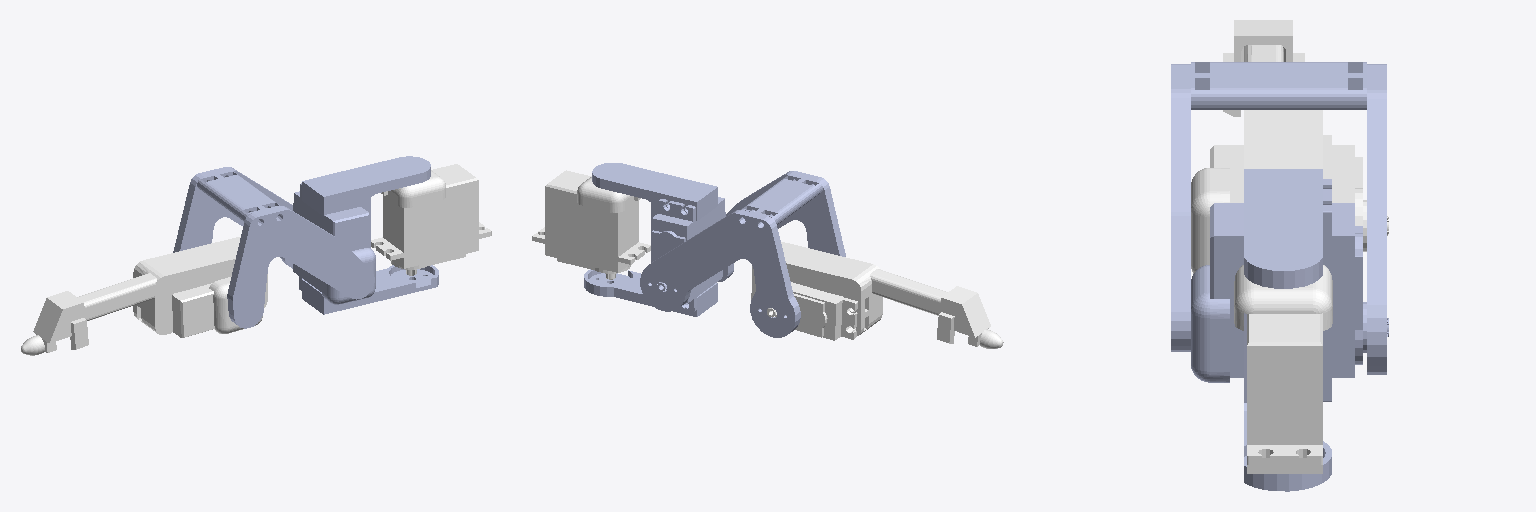
URDF robot description (Hexapod_Sim):
<?xml version="1.0" encoding="utf-8"?>
<!-- This URDF was automatically created by SolidWorks to URDF Exporter! Originally created by [author] ([email redacted]) 
     Commit Version: 1.6.0-4-g7f85cfe  Build Version: 1.6.7995.38578
     For more information, please see http://wiki.ros.org/sw_urdf_exporter -->
<robot
  name="Hexapod_Sim">
  <link
    name="base_link">
    <inertial>
      <origin
        xyz="0.00931125484451498 0.000284453934088408 0.0313981729948706"
        rpy="0 0 0" />
      <mass
        value="0.0507739390277625" />
      <inertia
        ixx="7.77002218705502E-06"
        ixy="-2.00048031390656E-21"
        ixz="-1.84032245097359E-07"
        iyy="1.29174138021076E-05"
        iyz="-7.2617021787437E-21"
        izz="8.47814575855253E-06" />
    </inertial>
    <visual>
      <origin
        xyz="0 0 0"
        rpy="0 0 0" />
      <geometry>
        <mesh
          filename="package://Hexapod_Sim/meshes/base_link.STL" />
      </geometry>
      <material
        name="">
        <color
          rgba="1 1 1 1" />
      </material>
    </visual>
    <collision>
      <origin
        xyz="0 0 0"
        rpy="0 0 0" />
      <geometry>
        <mesh
          filename="package://Hexapod_Sim/meshes/base_link.STL" />
      </geometry>
    </collision>
  </link>
  <link
    name="coxa">
    <inertial>
      <origin
        xyz="-0.038885 -3.6701E-05 0.030217"
        rpy="0 0 0" />
      <mass
        value="0.070996" />
      <inertia
        ixx="2.5181E-05"
        ixy="-5.5281E-08"
        ixz="-5.7851E-07"
        iyy="2.4895E-05"
        iyz="2.1926E-07"
        izz="1.3275E-05" />
    </inertial>
    <visual>
      <origin
        xyz="0 0 0"
        rpy="0 0 0" />
      <geometry>
        <mesh
          filename="package://Hexapod_Sim/meshes/coxa.STL" />
      </geometry>
      <material
        name="">
        <color
          rgba="0.79216 0.81961 0.93333 1" />
      </material>
    </visual>
    <collision>
      <origin
        xyz="0 0 0"
        rpy="0 0 0" />
      <geometry>
        <mesh
          filename="package://Hexapod_Sim/meshes/coxa.STL" />
      </geometry>
    </collision>
  </link>
  <joint
    name="coxa_joint"
    type="revolute">
    <origin
      xyz="0 0 0"
      rpy="0 0 0" />
    <parent
      link="base_link" />
    <child
      link="coxa" />
    <axis
      xyz="0 0 -1" />
    <limit
      lower="-1.57"
      upper="1.57"
      effort="0"
      velocity="0" />
  </joint>
  <link
    name="femur">
    <inertial>
      <origin
        xyz="-0.080738 -0.0016916 0.043153"
        rpy="0 0 0" />
      <mass
        value="0.02565" />
      <inertia
        ixx="5.238E-06"
        ixy="-3.0886E-08"
        ixz="1.7758E-06"
        iyy="1.5098E-05"
        iyz="1.1122E-07"
        izz="1.1043E-05" />
    </inertial>
    <visual>
      <origin
        xyz="0 0 0"
        rpy="0 0 0" />
      <geometry>
        <mesh
          filename="package://Hexapod_Sim/meshes/femur.STL" />
      </geometry>
      <material
        name="">
        <color
          rgba="0.79216 0.81961 0.93333 1" />
      </material>
    </visual>
    <collision>
      <origin
        xyz="0 0 0"
        rpy="0 0 0" />
      <geometry>
        <mesh
          filename="package://Hexapod_Sim/meshes/femur.STL" />
      </geometry>
    </collision>
  </link>
  <joint
    name="femur_joint"
    type="revolute">
    <origin
      xyz="0 0 0"
      rpy="0 0 0" />
    <parent
      link="coxa" />
    <child
      link="femur" />
    <axis
      xyz="0 1 0" />
    <limit
      lower="-1.57"
      upper="1.57"
      effort="0"
      velocity="0" />
  </joint>
  <link
    name="tibia">
    <inertial>
      <origin
        xyz="-0.1201 -0.00067472 0.023309"
        rpy="0 0 0" />
      <mass
        value="0.077277" />
      <inertia
        ixx="9.9576E-06"
        ixy="-1.0504E-06"
        ixz="3.8415E-08"
        iyy="2.7837E-05"
        iyz="-3.4084E-08"
        izz="3.1757E-05" />
    </inertial>
    <visual>
      <origin
        xyz="0 0 0"
        rpy="0 0 0" />
      <geometry>
        <mesh
          filename="package://Hexapod_Sim/meshes/tibia.STL" />
      </geometry>
      <material
        name="">
        <color
          rgba="1 1 1 1" />
      </material>
    </visual>
    <collision>
      <origin
        xyz="0 0 0"
        rpy="0 0 0" />
      <geometry>
        <mesh
          filename="package://Hexapod_Sim/meshes/tibia.STL" />
      </geometry>
    </collision>
  </link>
  <joint
    name="tibia_joint"
    type="revolute">
    <origin
      xyz="0 0 0"
      rpy="0 0 0" />
    <parent
      link="femur" />
    <child
      link="tibia" />
    <axis
      xyz="0 1 0" />
    <limit
      lower="-1.57"
      upper="1.57"
      effort="0"
      velocity="0" />
  </joint>
</robot>

--- What the picture shows (computed from the rendered views, not written in the file) ---
3 views of the same robot in one strip: view 1: azimuth 30°, elevation 25°; view 2: azimuth 150°, elevation 25°; view 3: azimuth 270°, elevation 25° (orthographic).
Model Hexapod_Sim with 4 links and 3 joints (3 revolute), rooted at base_link, posed all joints at 0.
Visible links, largest first — view 1: femur, tibia, coxa, base_link; view 2: femur, tibia, coxa, base_link; view 3: coxa, femur, base_link, tibia.
Link boxes in pixels (x1,y1,x2,y2): femur: [173, 167, 374, 328]; tibia: [21, 237, 267, 355]; coxa: [293, 156, 438, 314]; base_link: [371, 164, 491, 275]; femur: [640, 171, 845, 337]; tibia: [751, 242, 1003, 348]; coxa: [584, 163, 733, 316]; base_link: [532, 170, 650, 279]; coxa: [1191, 169, 1388, 491]; femur: [1171, 62, 1386, 374]; base_link: [1234, 265, 1332, 473]; tibia: [1191, 20, 1388, 273].
Bounding box of the posed robot: 0.2481 × 0.0555 × 0.0681 m (x, y, z).
Meshes: 4 distinct files referenced, 4 mesh visuals loaded (4 binary STL).